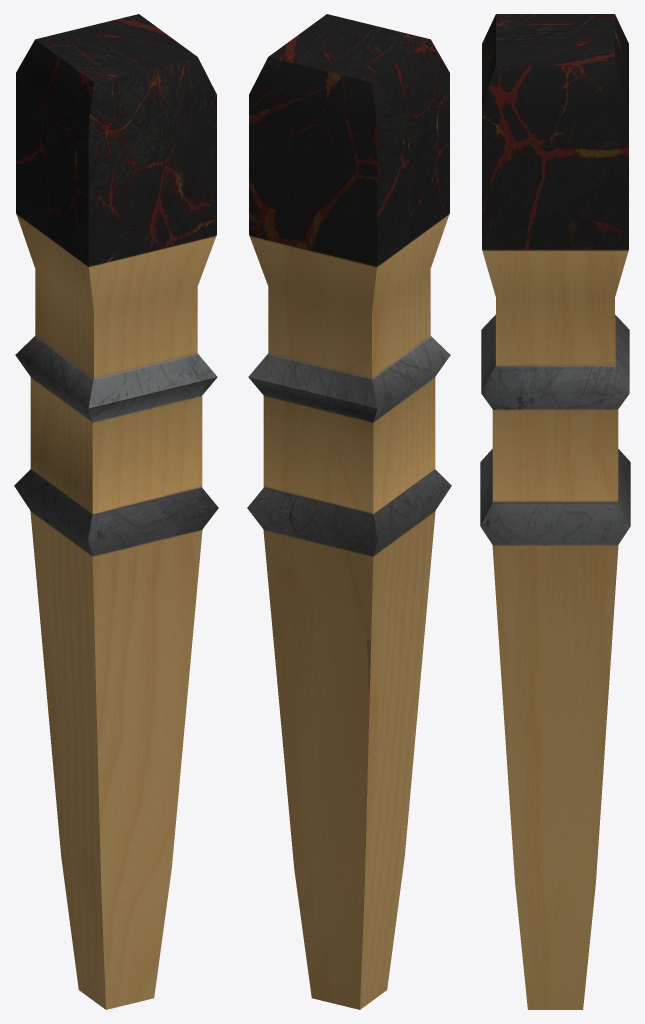
Rendered from torchFBX.fbx.
3 views of the same model, side by side, from view 1: azimuth 30°, elevation 25°; view 2: azimuth 150°, elevation 25°; view 3: azimuth 270°, elevation 25° (orthographic).
Parts seen in each view (by area): view 1: pCube1; view 2: pCube1; view 3: pCube1.
Part boxes in pixels (x1=…): pCube1: x1=14, y1=14, x2=218, y2=1009; pCube1: x1=247, y1=14, x2=451, y2=1009; pCube1: x1=480, y1=14, x2=630, y2=1009.
Size of the model in its own units: 0.3169 by 2.19 by 0.3106.
